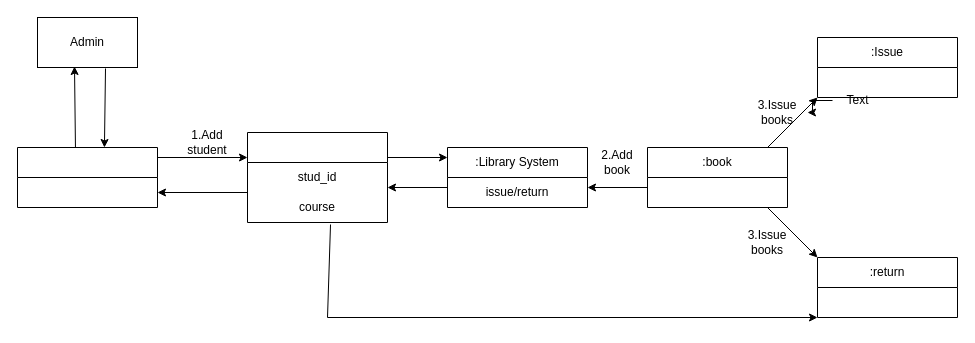
Some shapes in this 975 by 343 pixel diagram are drawn without their labels. Here are the shapes that lost their labels. From the top down, the box of each, then its label:
(16, 146, 158, 208): :Dashboard
(246, 132, 388, 222): :student
